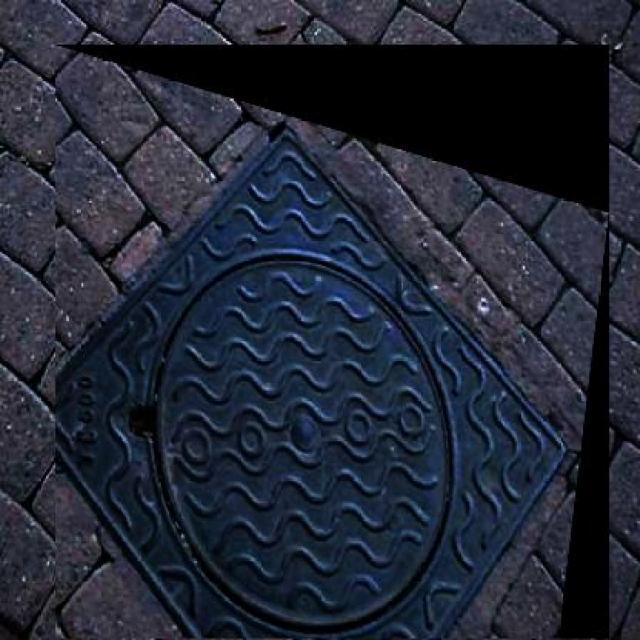Manhole: (54, 44, 610, 638)
